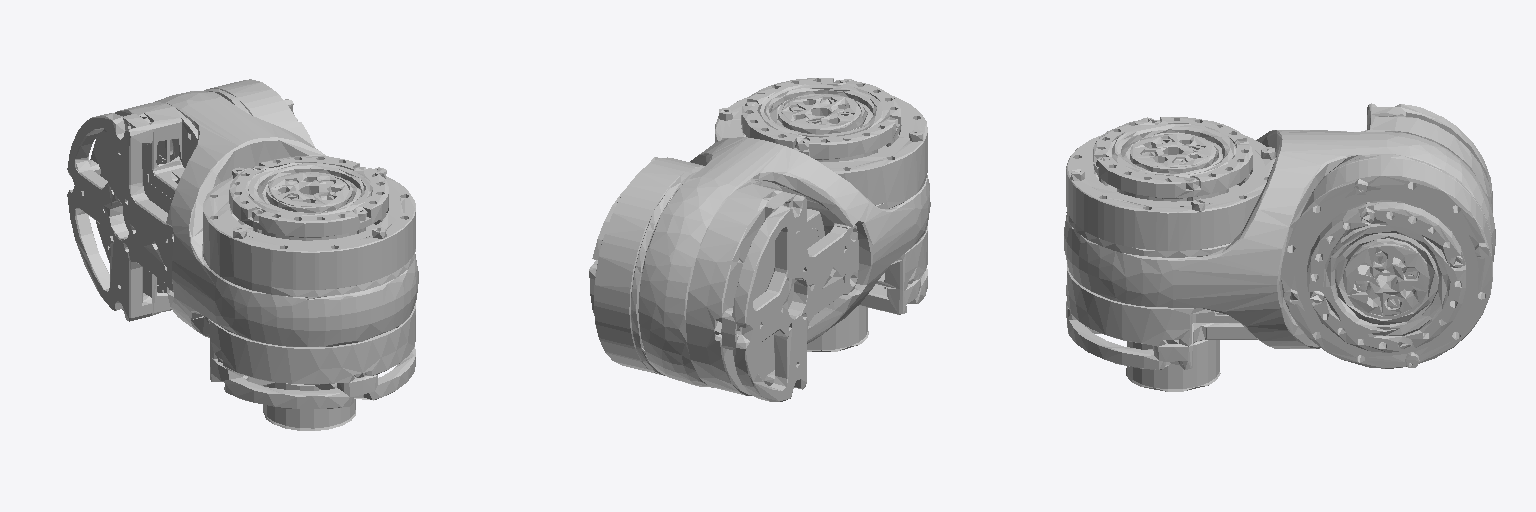
The model's file is waistRoll.obj.
3 views of the same model, side by side, from view 1: azimuth 30°, elevation 25°; view 2: azimuth 150°, elevation 25°; view 3: azimuth 270°, elevation 25° (orthographic).
Parts seen in each view (by area): view 1: waistRoll; view 2: waistRoll; view 3: waistRoll.
Part boxes in pixels (bbox=[...]): waistRoll: bbox=[67, 79, 418, 430]; waistRoll: bbox=[589, 78, 930, 401]; waistRoll: bbox=[1064, 103, 1495, 391].
Size of the model in its own units: 0.082 by 0.0959 by 0.1616.